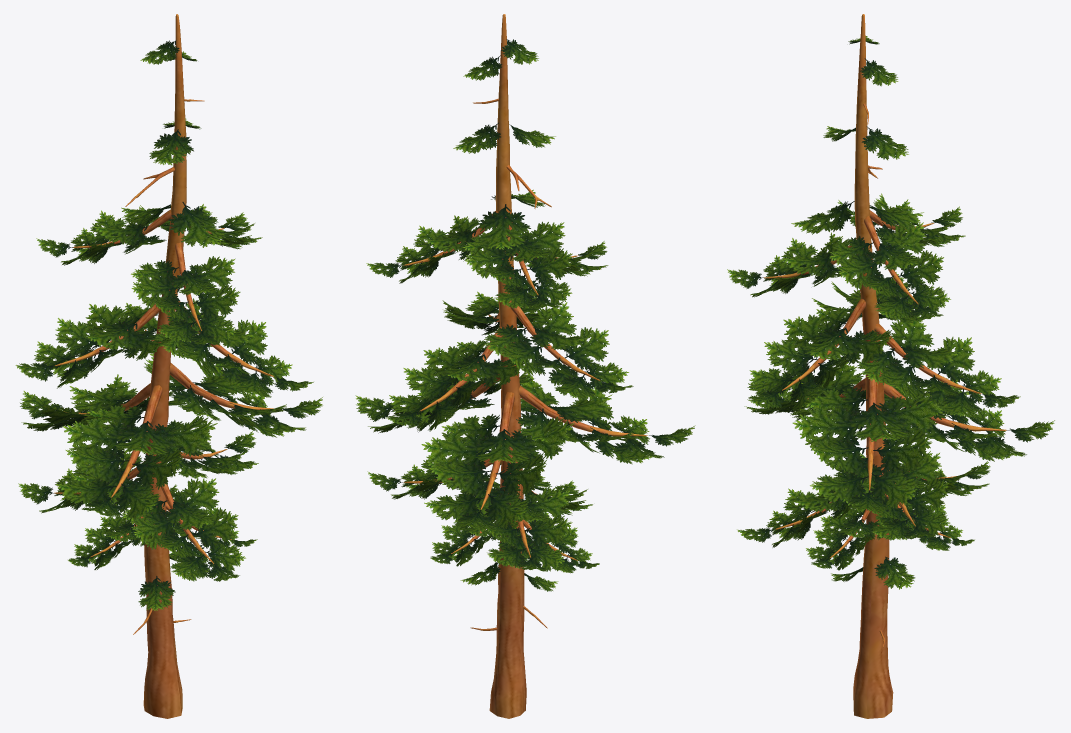
The model's file is Pine model  A (4).glb.
3 renders of one model, left to right at view 1: azimuth 30°, elevation 25°; view 2: azimuth 150°, elevation 25°; view 3: azimuth 270°, elevation 25°, orthographic.
Parts seen in each view (by area): view 1: stylized_pine_var2_m_leaves_0, stylized_pine_var2_m_trunk_0; view 2: stylized_pine_var2_m_leaves_0, stylized_pine_var2_m_trunk_0; view 3: stylized_pine_var2_m_leaves_0, stylized_pine_var2_m_trunk_0.
Part boxes in pixels (x1,y1,x2,y2): stylized_pine_var2_m_leaves_0: (15, 40, 322, 610); stylized_pine_var2_m_trunk_0: (54, 14, 273, 718); stylized_pine_var2_m_leaves_0: (355, 39, 695, 591); stylized_pine_var2_m_trunk_0: (403, 14, 647, 718); stylized_pine_var2_m_leaves_0: (727, 36, 1054, 589); stylized_pine_var2_m_trunk_0: (763, 14, 1006, 718).
Size of the model in its own units: 637 by 1433 by 613.
Materials: 2 (2 with a texture image).
